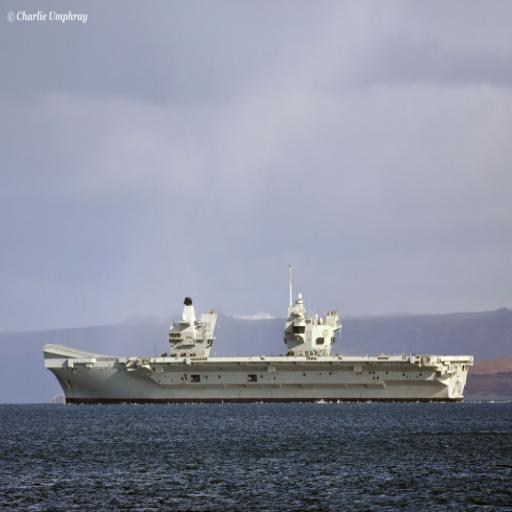Portanaves: (44, 260, 476, 407)
